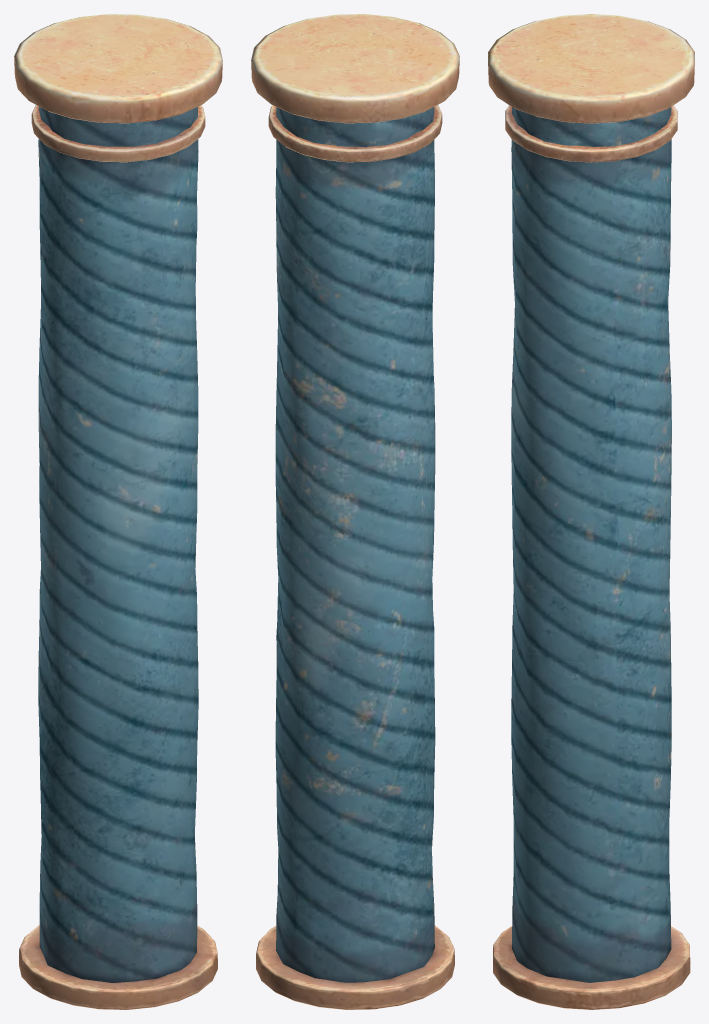
The picture shows the model from 3 angles, left to right: view 1: azimuth 30°, elevation 25°; view 2: azimuth 150°, elevation 25°; view 3: azimuth 270°, elevation 25°; orthographic projection.
Visible parts, largest first — view 1: SM_BB_T4_Column_02_LOD0; view 2: SM_BB_T4_Column_02_LOD0; view 3: SM_BB_T4_Column_02_LOD0.
Boxes of the visible parts, box(x1,y1,x2,y2) form: SM_BB_T4_Column_02_LOD0: box(14, 14, 222, 1009); SM_BB_T4_Column_02_LOD0: box(251, 14, 459, 1009); SM_BB_T4_Column_02_LOD0: box(488, 14, 694, 1009).
Size of the model in its own units: 0.6243 by 3.01 by 0.6179.
Materials: 1 (1 with a texture image).
